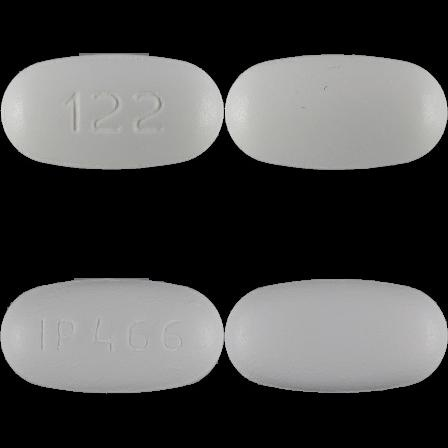51655-050: (0, 0, 224, 224)
